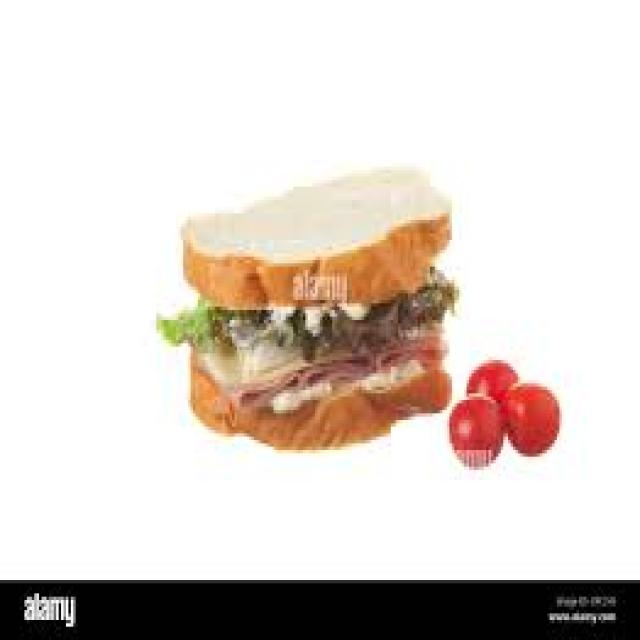Sandwich: (166, 185, 446, 447)
